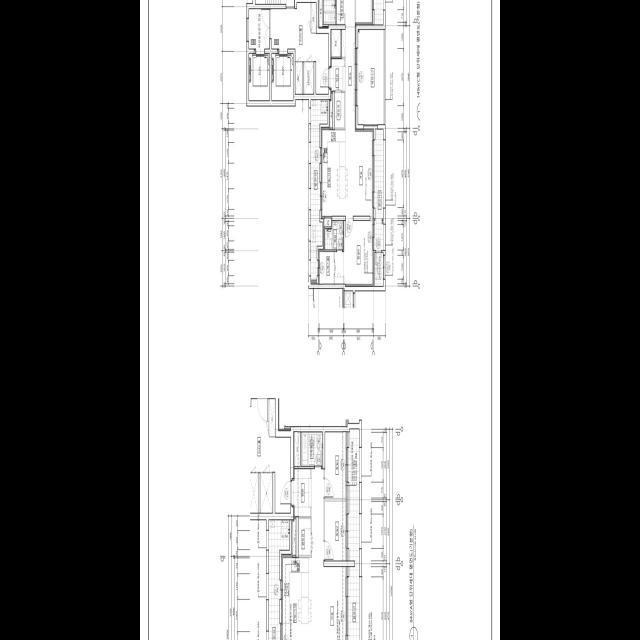background: (140, 0, 500, 640)
space_balconi: (311, 99, 327, 279), (358, 29, 384, 124), (269, 520, 289, 640), (348, 429, 359, 640), (374, 129, 383, 249), (374, 0, 383, 24)
space_bedroom: (335, 220, 373, 285), (325, 431, 347, 497), (325, 501, 347, 560), (356, 0, 373, 24)
space_dressroom: (319, 249, 334, 283)
space_elevator: (272, 48, 293, 100), (249, 48, 269, 100)
space_elevator_hall: (249, 2, 328, 93), (250, 398, 291, 512)
space_front: (292, 468, 311, 516), (330, 58, 345, 90)
space_kitchen: (282, 554, 312, 640), (321, 127, 345, 218)
space_living_room: (342, 0, 373, 216), (312, 468, 347, 640)
space_other: (260, 472, 272, 512), (299, 518, 311, 554), (304, 61, 314, 93), (250, 472, 258, 512), (335, 92, 344, 127), (331, 29, 341, 56), (375, 252, 383, 285), (269, 398, 275, 436), (295, 61, 302, 93), (294, 431, 300, 466), (311, 2, 316, 32), (292, 519, 296, 554), (329, 93, 333, 127), (319, 0, 323, 27), (323, 218, 331, 226)
space_toilet: (301, 432, 322, 466), (325, 220, 343, 249), (324, 0, 336, 24), (337, 0, 345, 24)
